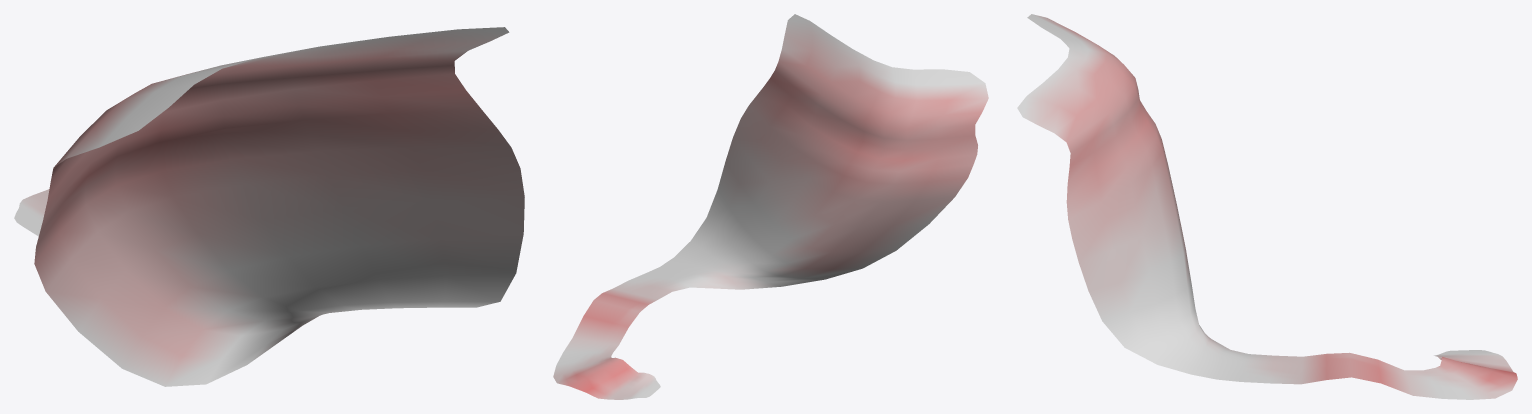
Rendered from Waterfall.fbx.
3 views of the same model, side by side, from view 1: azimuth 30°, elevation 25°; view 2: azimuth 150°, elevation 25°; view 3: azimuth 270°, elevation 25° (orthographic). The views are drawn at different scales.
Visible parts, largest first — view 1: Plane.008; view 2: Plane.008; view 3: Plane.008.
Boxes of the visible parts, x1,y1,x2,y2 form: Plane.008: (14, 27, 524, 386); Plane.008: (553, 14, 988, 399); Plane.008: (1017, 14, 1517, 399).
Bounding box in the file's own units: 12805 × 10379 × 17325.
